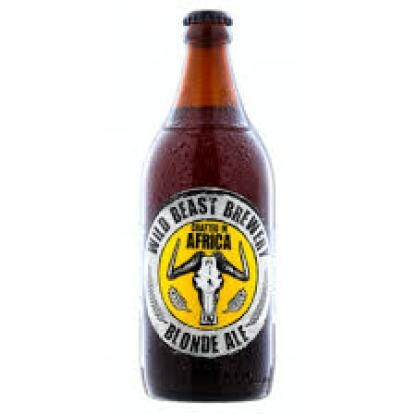trash: (144, 10, 273, 400)
